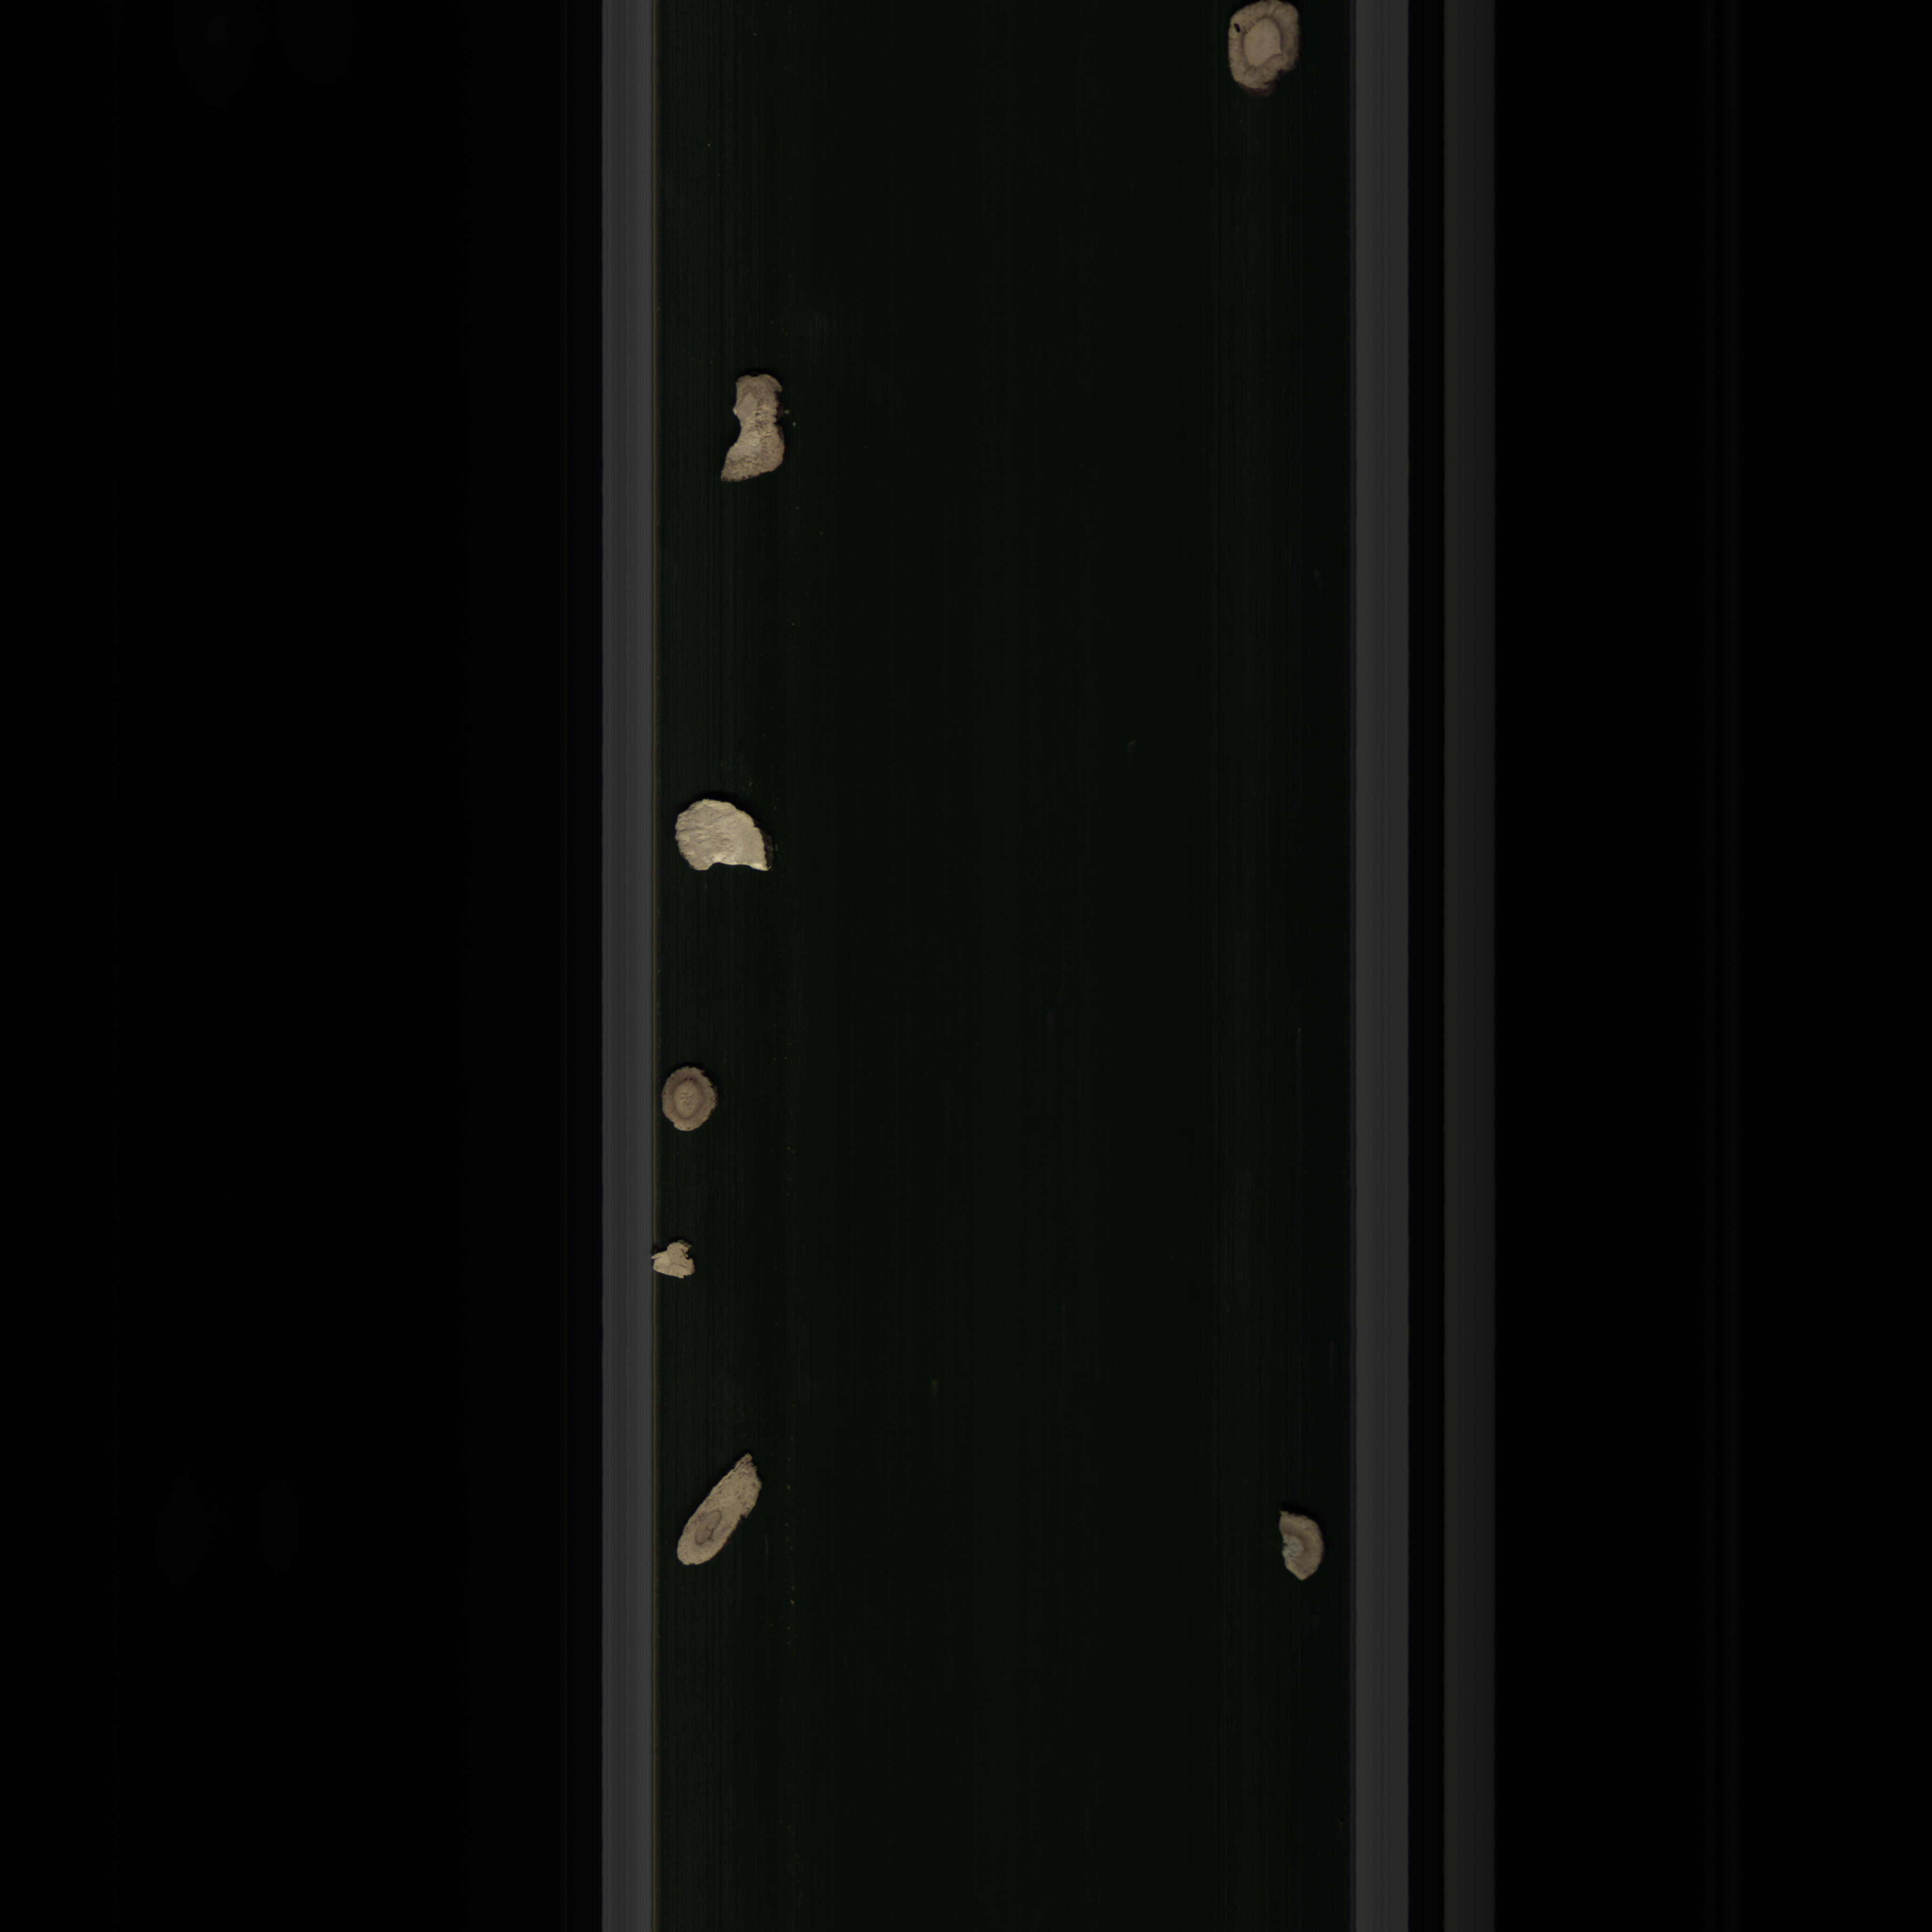debris: (713, 368, 812, 494), (667, 793, 786, 890), (1260, 1497, 1330, 1589), (649, 1231, 706, 1288)
distortion: (663, 1449, 770, 1583)
moldy: (1223, 0, 1315, 92), (662, 1063, 727, 1146)
